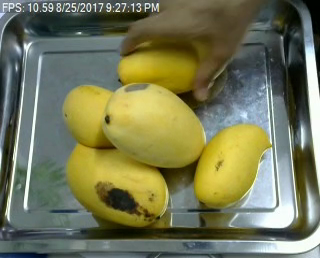Mango: (102, 82, 210, 168), (66, 140, 170, 226), (192, 123, 272, 209), (114, 38, 214, 93), (60, 83, 122, 148)
